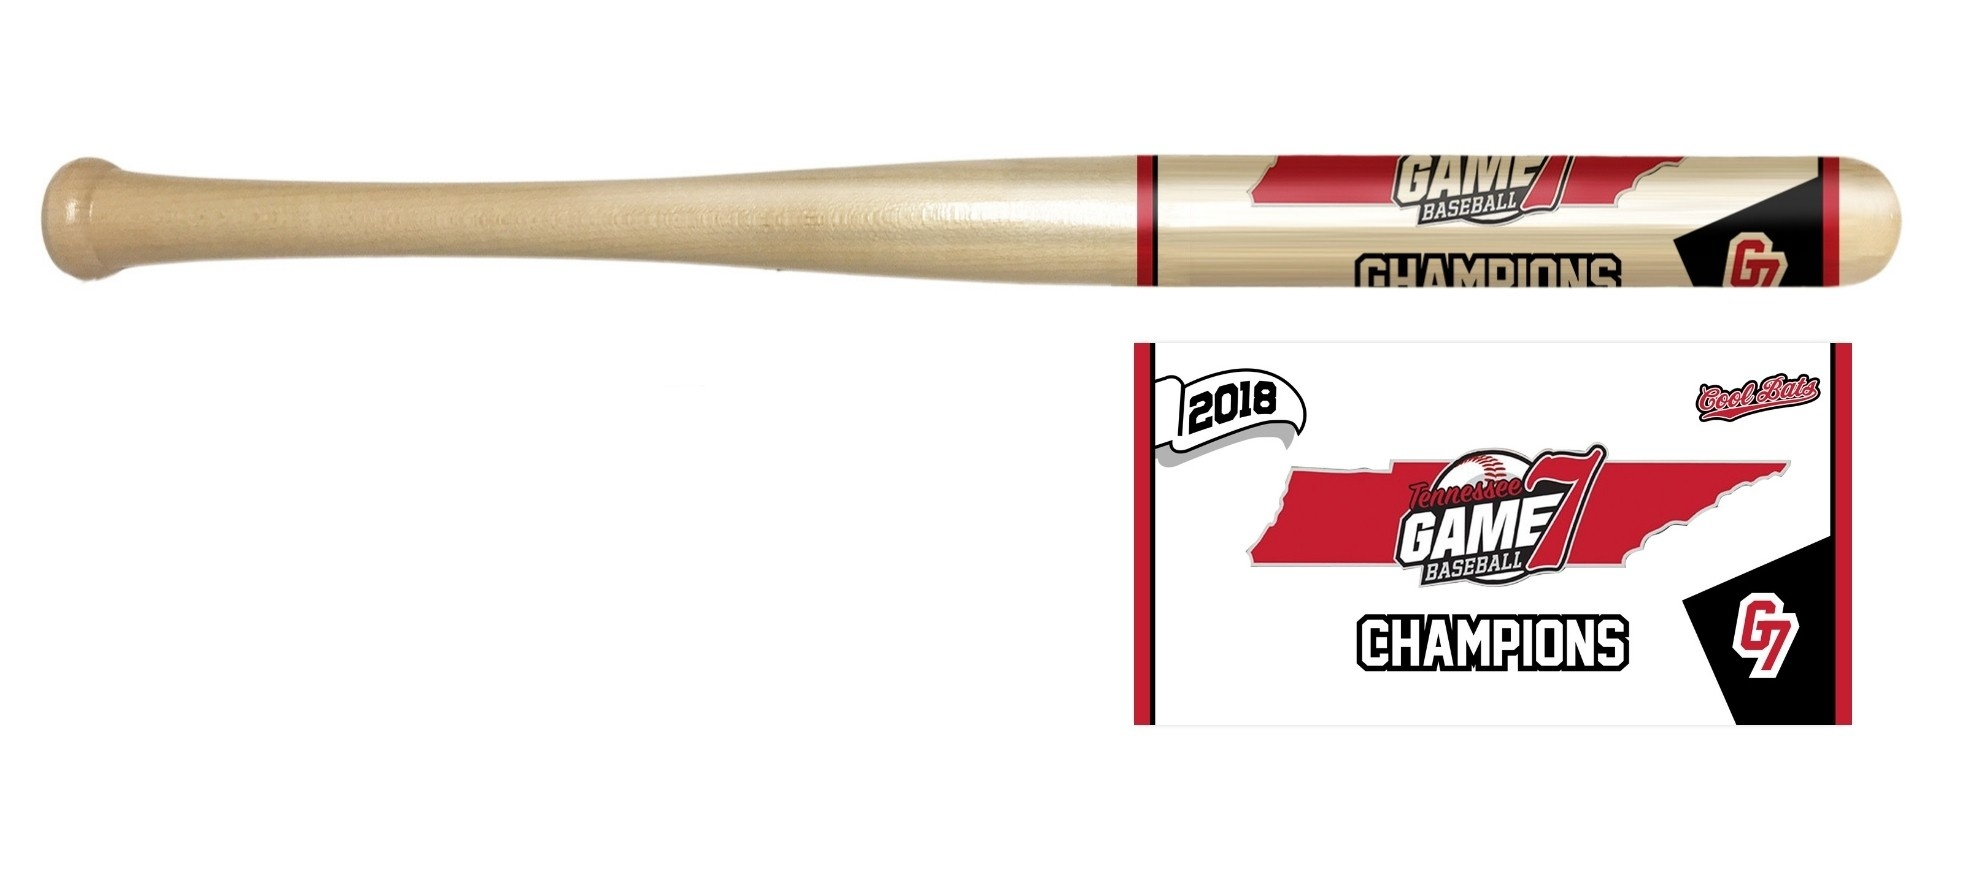bita: (53, 136, 1896, 292)
